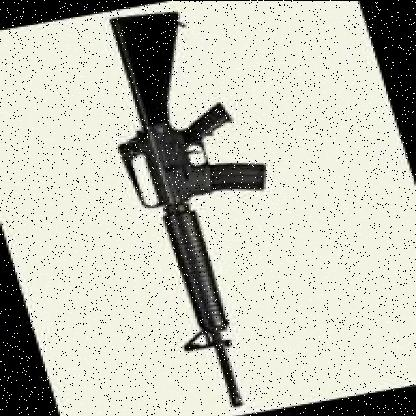rifle: (78, 0, 333, 416)
